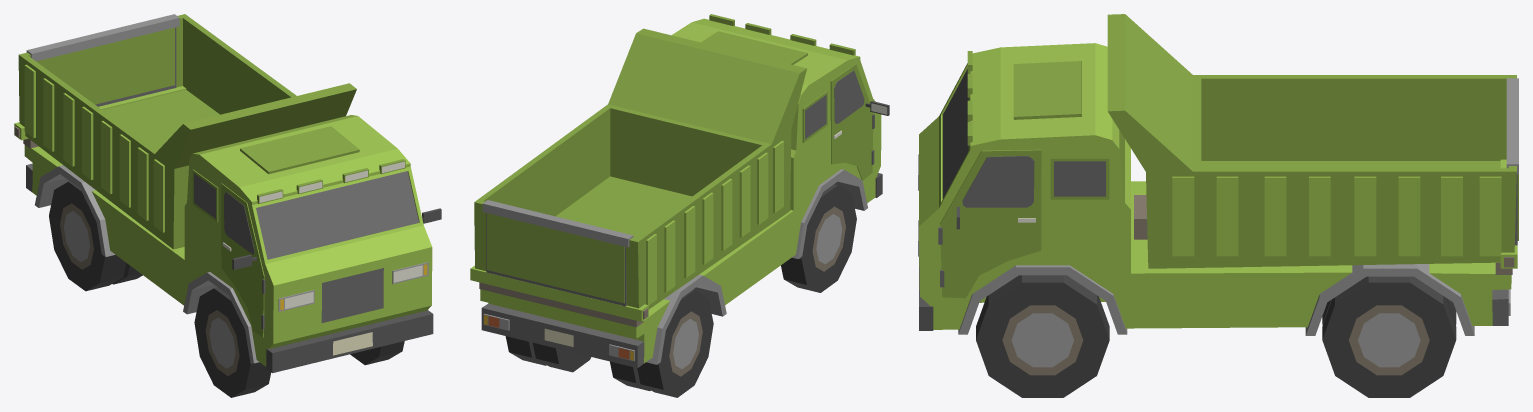
File: kar7_2.fbx
3 renders of one model, left to right at view 1: azimuth 30°, elevation 25°; view 2: azimuth 150°, elevation 25°; view 3: azimuth 270°, elevation 25°, orthographic. The views are drawn at different scales.
Visible parts, largest first — view 1: Cube_4, Cube_7, Cube_4_2, Cylinder, Cylinder_3, Cylinder_1; view 2: Cube_7, Cube_4, Cube_4_2, Cylinder, Cylinder_3, Cylinder_5; view 3: Cube_7, Cube_4, Cylinder_5, Cylinder_1, Cube_4_2.
Part boxes in pixels (box(x1,y1,x2,y2)): Cube_4: box(23, 115, 441, 373); Cube_7: box(14, 14, 356, 249); Cube_4_2: box(26, 14, 179, 104); Cylinder: box(49, 181, 142, 291); Cylinder_3: box(194, 287, 271, 397); Cylinder_1: box(350, 341, 404, 365); Cube_7: box(470, 28, 806, 321); Cube_4: box(479, 14, 889, 367); Cube_4_2: box(482, 200, 633, 303); Cylinder: box(610, 289, 713, 397); Cylinder_3: box(781, 184, 856, 292); Cylinder_5: box(505, 336, 591, 372); Cube_7: box(1107, 14, 1517, 268); Cube_4: box(918, 43, 1512, 335); Cylinder_5: box(1322, 276, 1456, 397); Cylinder_1: box(976, 275, 1109, 397); Cube_4_2: box(1506, 78, 1518, 240).
Bounding box in the file's own units: 285 × 319 × 599.
